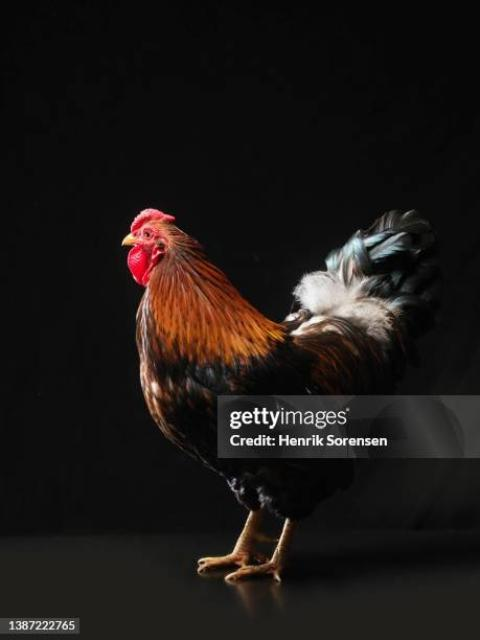Chicken: (120, 208, 431, 579)
